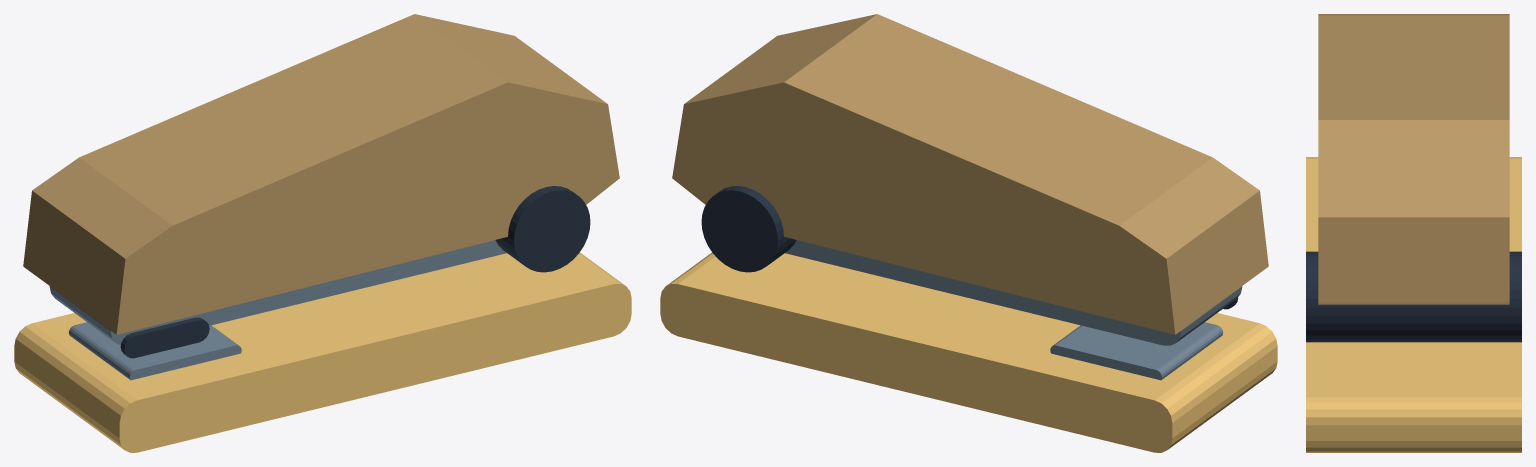
File: nailer.glb
The picture shows the model from 3 angles, left to right: view 1: azimuth 30°, elevation 25°; view 2: azimuth 150°, elevation 25°; view 3: azimuth 270°, elevation 25°; orthographic projection. The views are drawn at different scales.
Visible parts, largest first — view 1: lever, base, hinge, magazine, anvil, paper notch; view 2: lever, base, magazine, hinge, anvil; view 3: lever, base, hinge.
Part boxes in pixels (x1,y1,x2,y2): lever: (23,14,619,334); base: (14,252,631,452); hinge: (495,186,590,272); magazine: (49,240,506,345); anvil: (68,322,241,380); paper notch: (120,317,209,358); lever: (672,14,1268,334); base: (660,252,1277,452); magazine: (785,240,1242,345); hinge: (701,186,796,272); anvil: (1050,322,1223,380); lever: (1318,14,1509,304); base: (1306,157,1521,452); hinge: (1306,251,1521,342).
Bounding box in the file's own units: 1.74 × 0.89 × 0.62.
